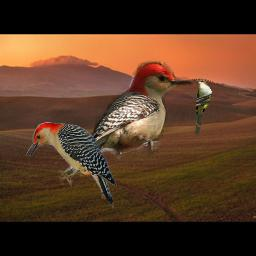Cuckoo: (194, 79, 212, 134)
Woodpecker: (63, 60, 196, 176), (26, 122, 118, 209)
